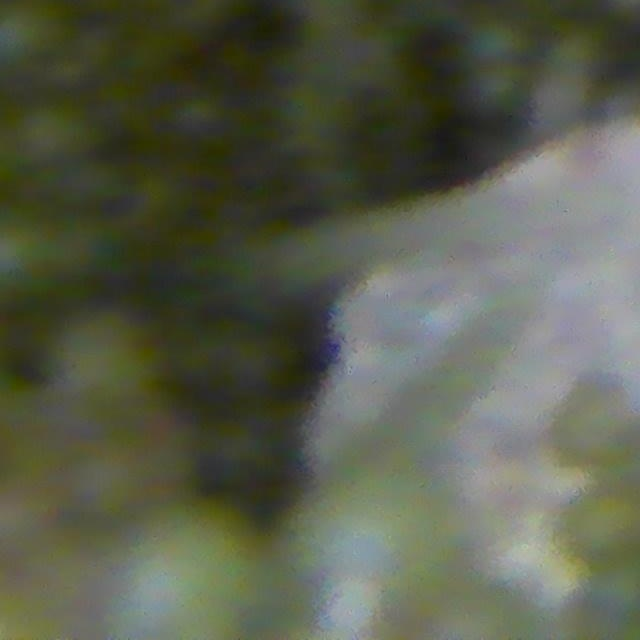SeaGrape: (552, 373, 633, 462), (564, 491, 640, 564), (565, 574, 640, 640), (0, 0, 65, 71), (463, 60, 529, 121), (466, 14, 529, 69)
